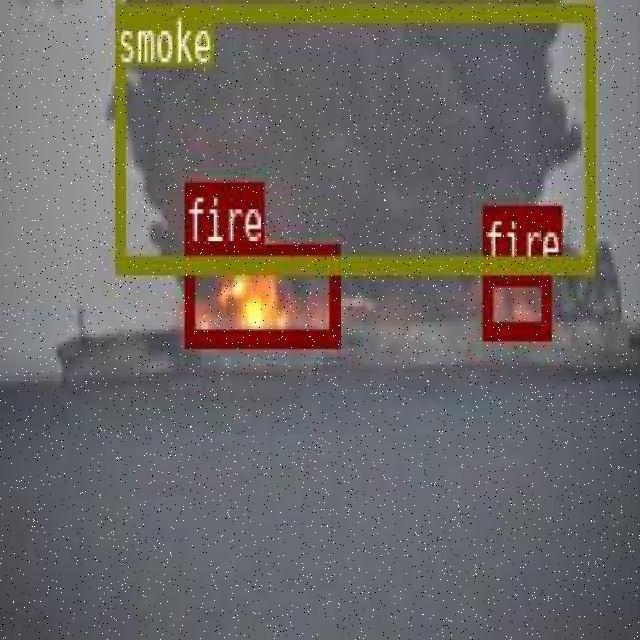Smoke: (114, 0, 594, 204)
